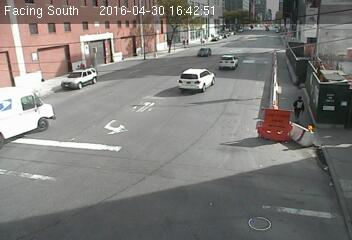neg: (84, 34, 106, 63)
pos: (284, 93, 305, 120)
